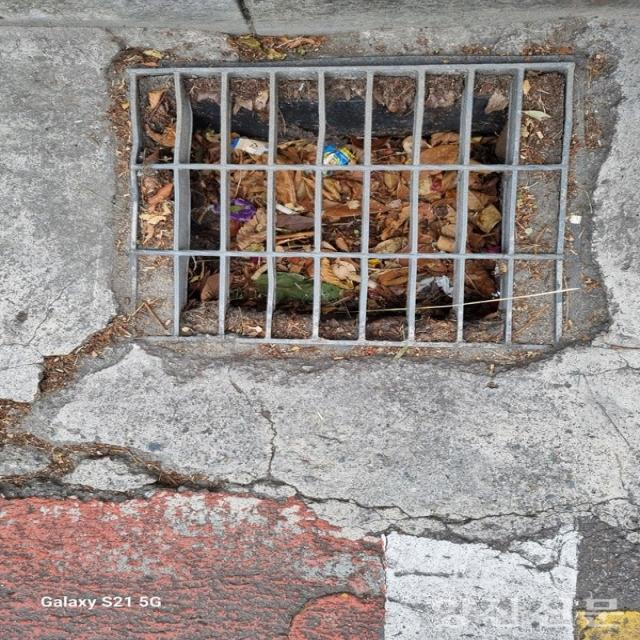drain_area: (285, 95, 508, 136), (184, 102, 276, 137)
drain_full: (135, 66, 575, 341)
